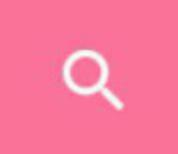ImgButton: (1, 1, 177, 153)
